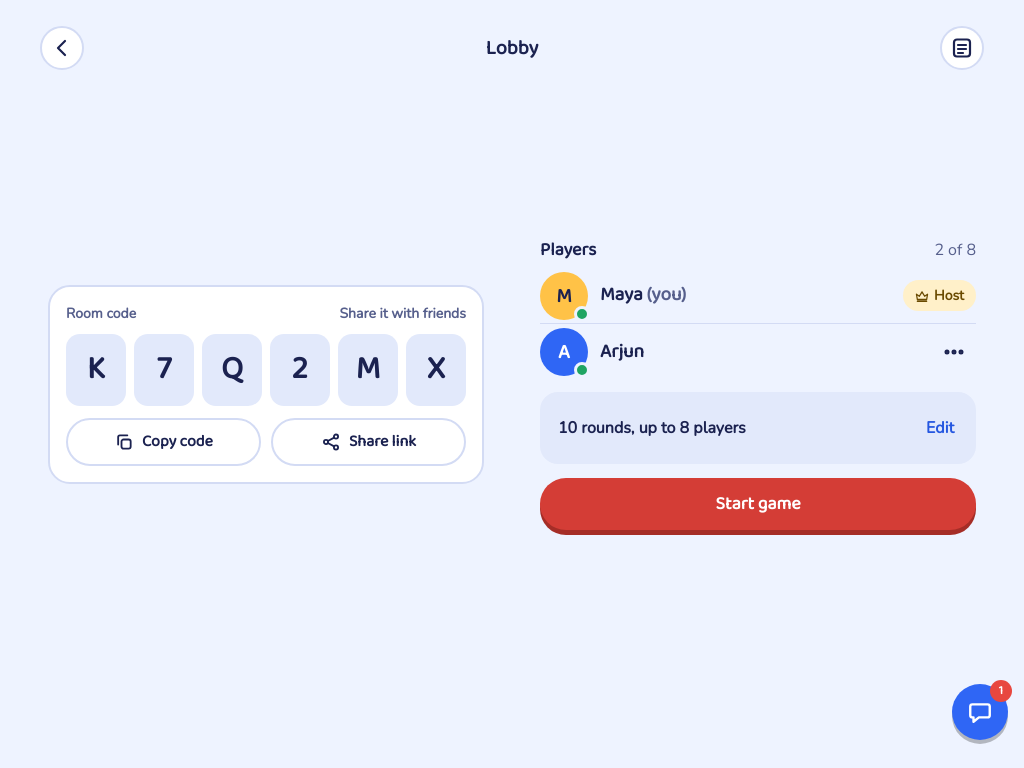
Test: chat › shows history, sends a message and receives new ones as plain text
Check: the heading "Lobby" is shown, box [486,36,538,60]
Click the button named "Open chat". click: [980, 712]
box: [952,684,1008,740]
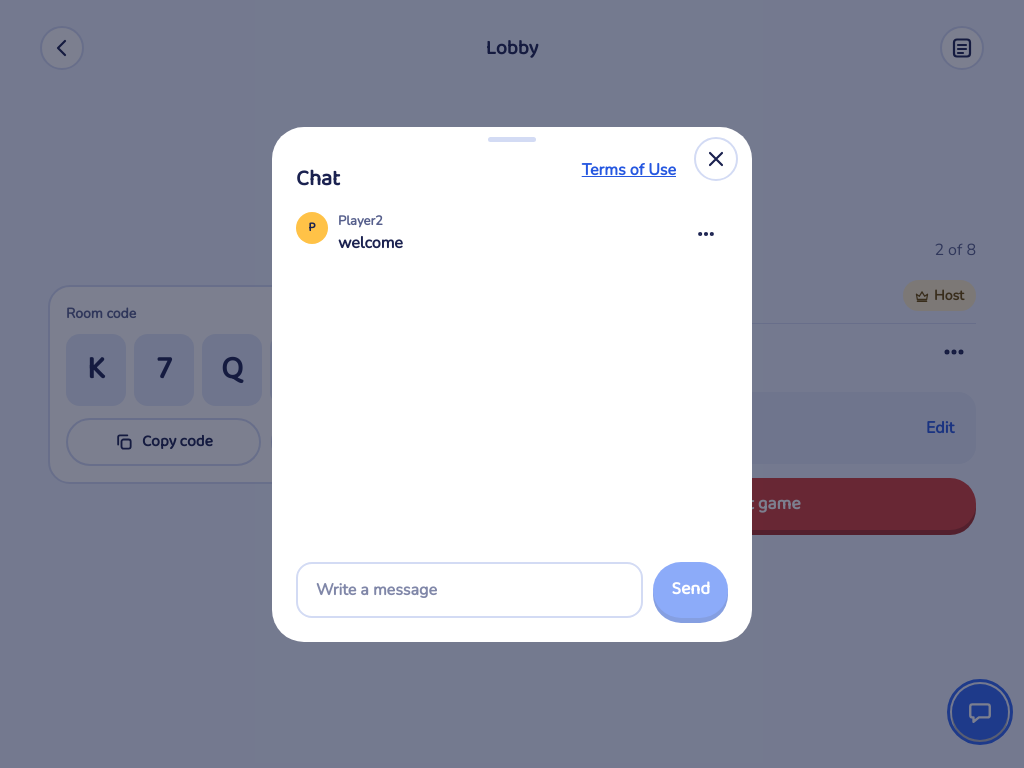
Check: the text "welcome" is shown, box [338,232,403,254]
Type "  hi   all " into the field labelled "Write a message". click: [470, 590]
box: [296,562,643,618]
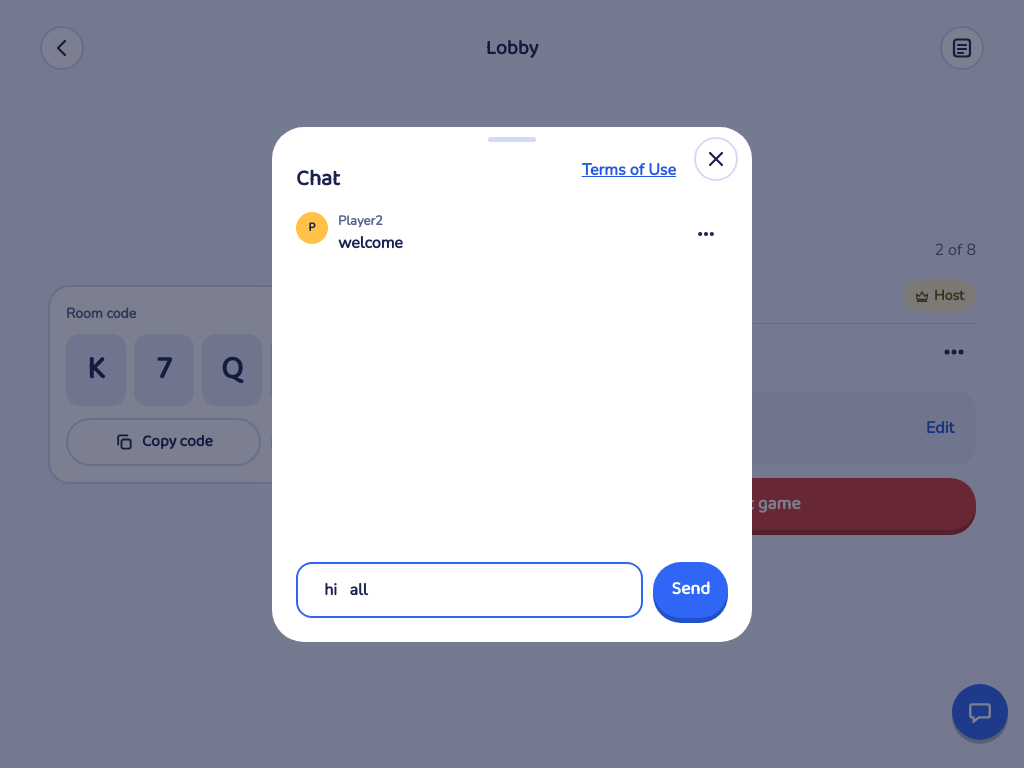
Click the button "Send". click: [691, 590]
box: [653,562,728,618]
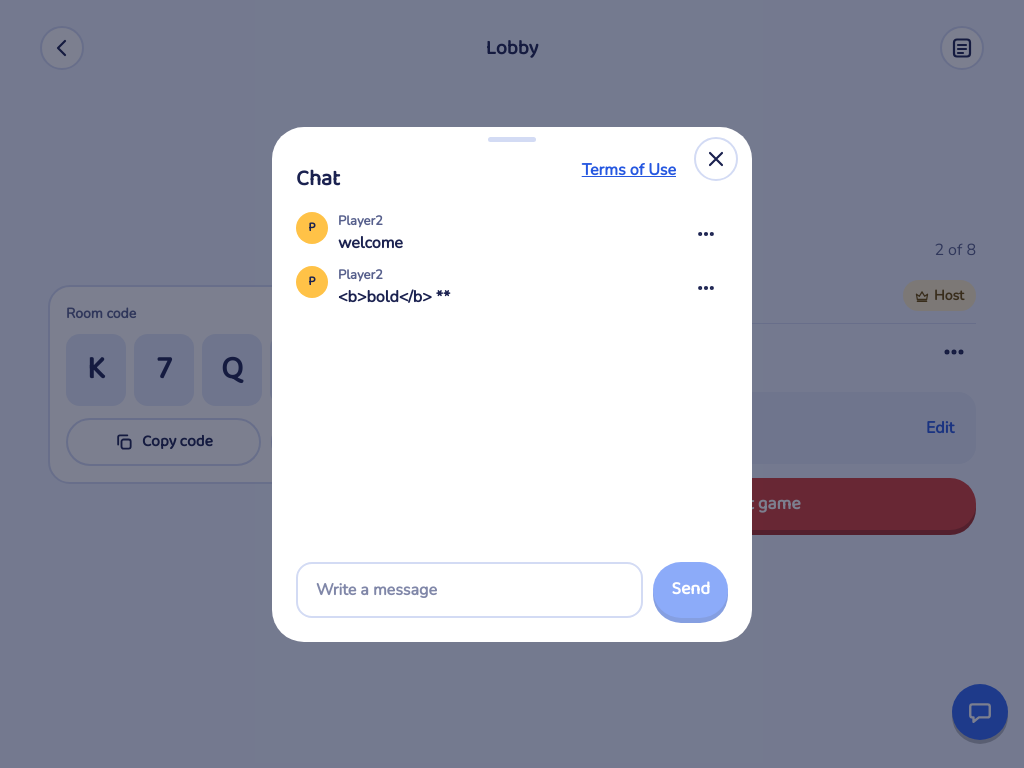
Check: the text "<b>bold</b> **" is shown, box [338,286,450,308]
